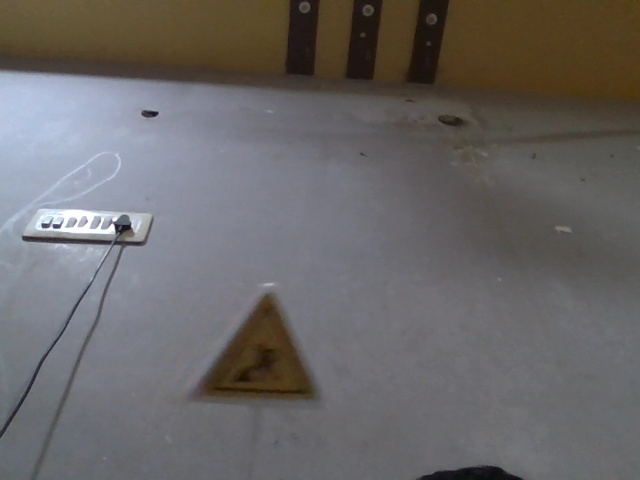workinprogress: (192, 282, 319, 408)
